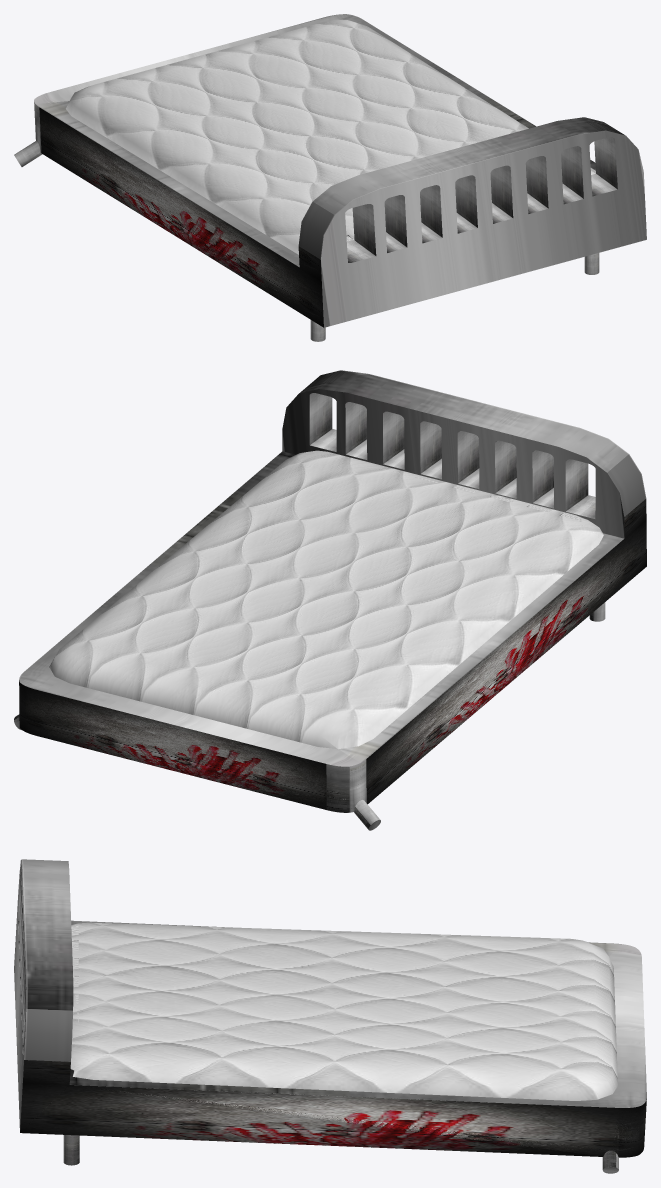
Rendered from FARCH.fbx.
3 renders of one model, top to bottom at view 1: azimuth 30°, elevation 25°; view 2: azimuth 150°, elevation 25°; view 3: azimuth 270°, elevation 25°, orthographic. The views are drawn at different scales.
Visible parts, largest first — view 1: Box002; view 2: Box002; view 3: Box002.
Boxes of the visible parts, x1,y1,x2,y2 form: Box002: [14, 14, 646, 341]; Box002: [14, 370, 646, 830]; Box002: [14, 859, 646, 1173].
Bounding box in the file's own units: 26.21 × 37.35 × 11.72.
